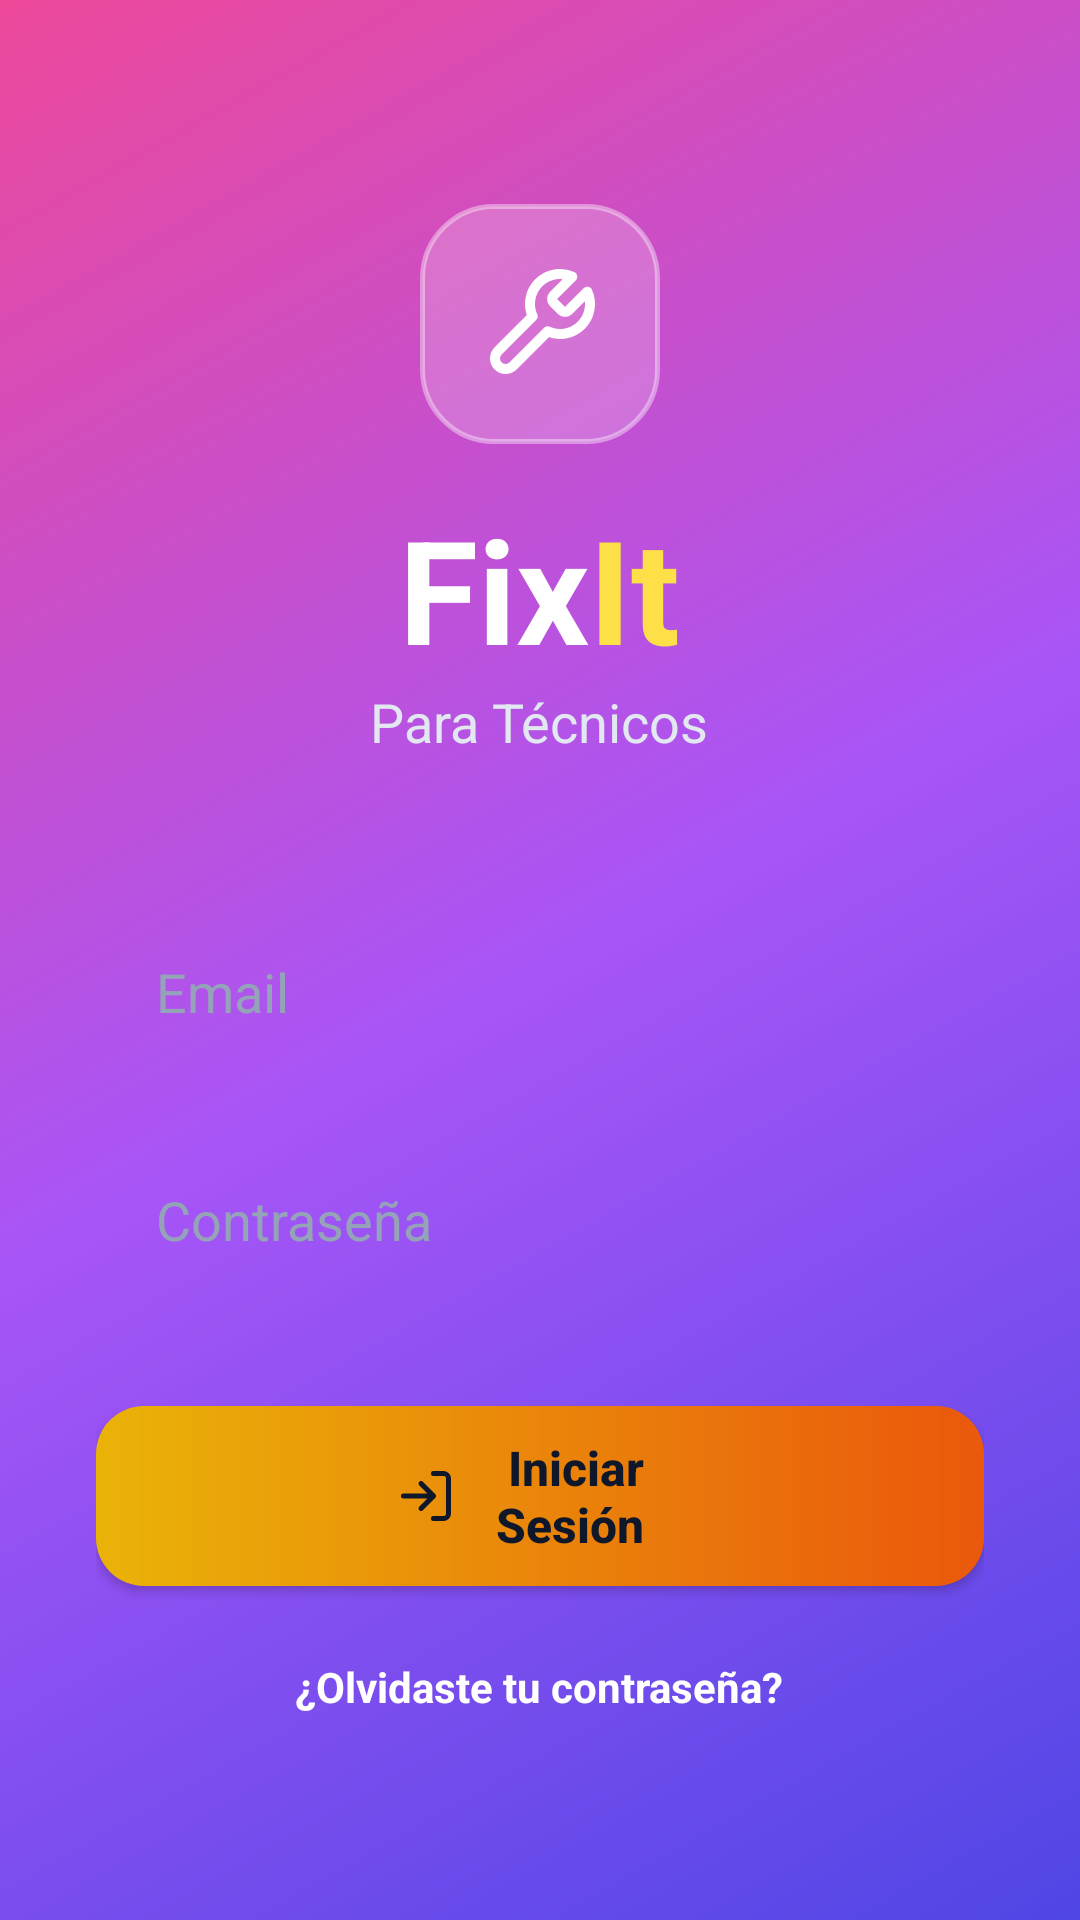

Point at icon controls on the screen. Image size 1080x1920, points as (x=x, y=y).
llave: (x=542, y=321)
